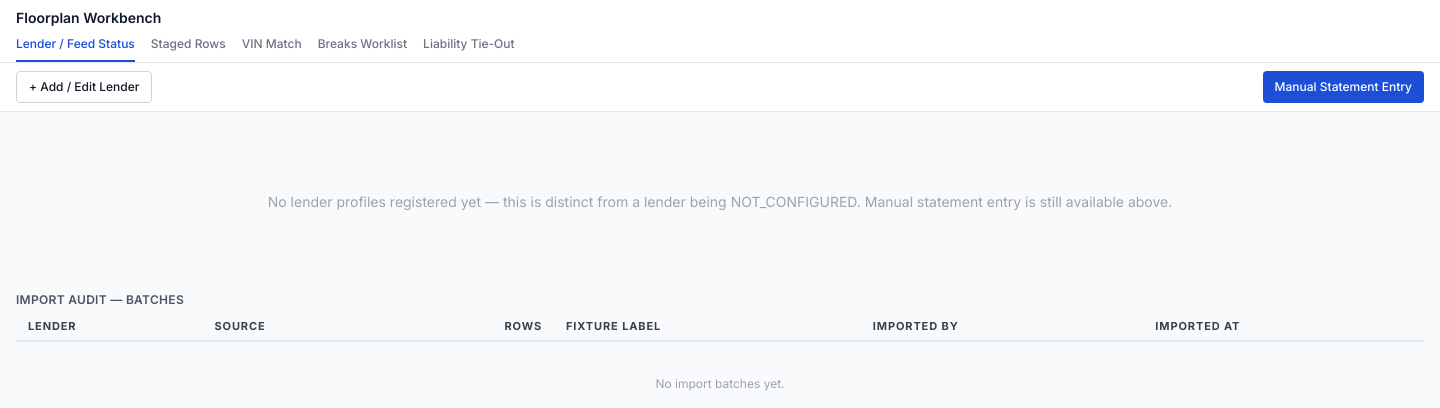
Test: FloorplanWorkbench — Staged Rows tab › shows the empty state when there are no staged rows
Click the button with test id "staged-rows-tab-button" at (188, 49), box [151,36,226,62]
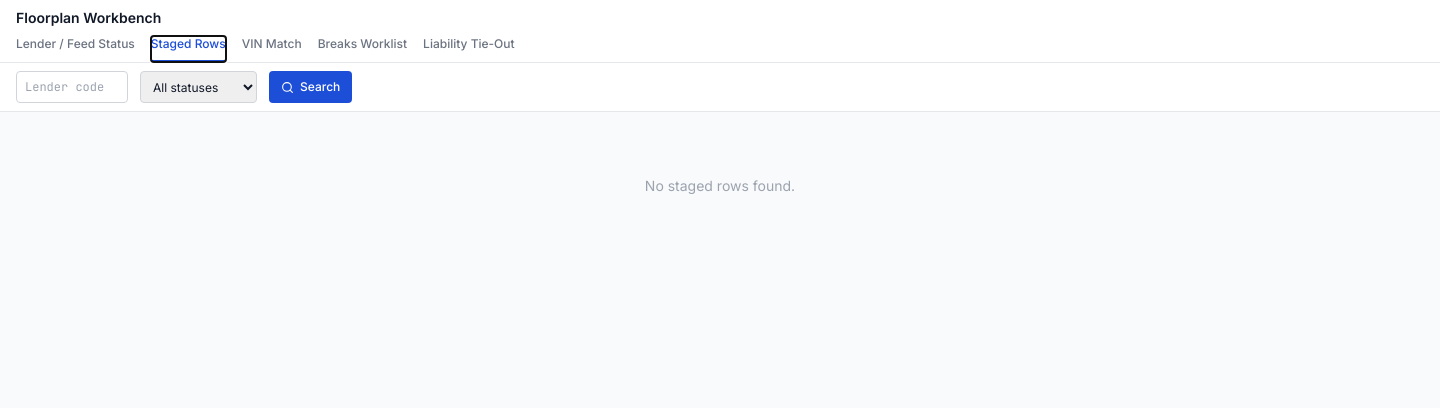
Result: the text "No staged rows found." is shown at [645,177,795,194]
